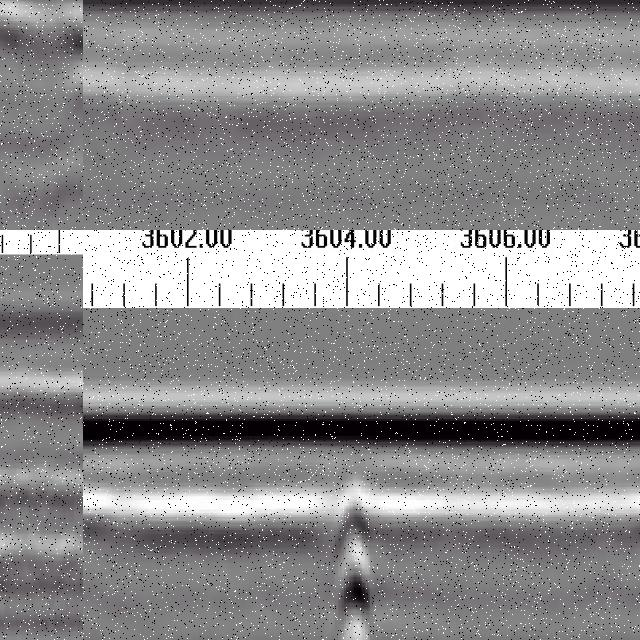crack: (1, 362, 21, 640), (339, 471, 367, 640)
loose: (1, 1, 84, 112)
